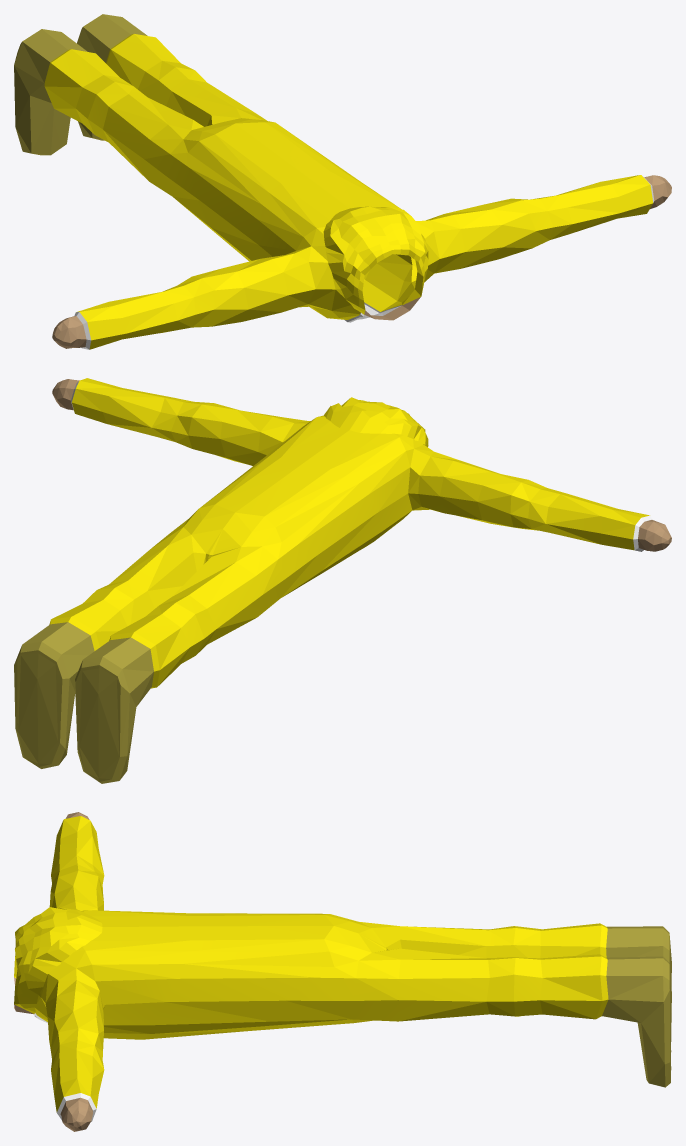
The model's file is ScientistClothes.glb.
The picture shows the model from 3 angles, top to bottom: view 1: azimuth 30°, elevation 25°; view 2: azimuth 150°, elevation 25°; view 3: azimuth 270°, elevation 25°; orthographic projection.
Visible parts, largest first — view 1: ScientistClothes; view 2: ScientistClothes; view 3: ScientistClothes.
Part boxes in pixels (x1,y1,x2,y2): ScientistClothes: (14,14,671,349); ScientistClothes: (14,378,671,783); ScientistClothes: (14,812,671,1131).
Size of the model in its own units: 1.21 by 0.2879 by 1.11.
1 material, 1 textured.
